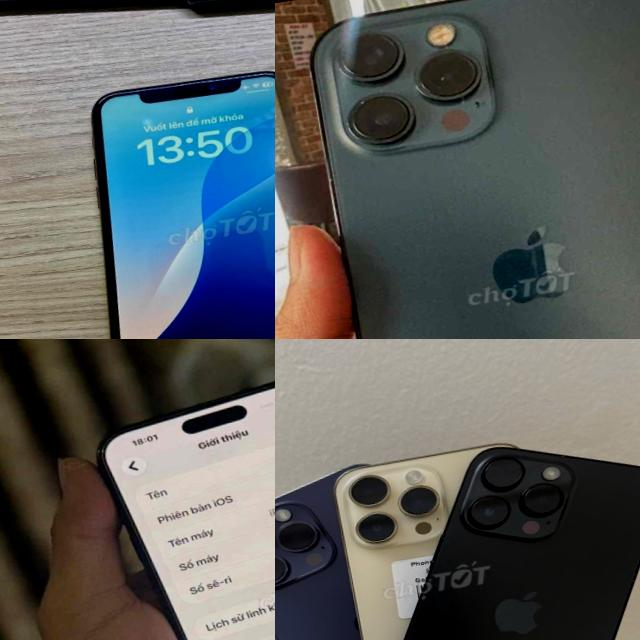gen_12_13: (304, 0, 640, 339)
gen_14: (339, 430, 640, 640)
gen_16: (100, 383, 275, 640)
gen_x_xs: (60, 49, 275, 339)
